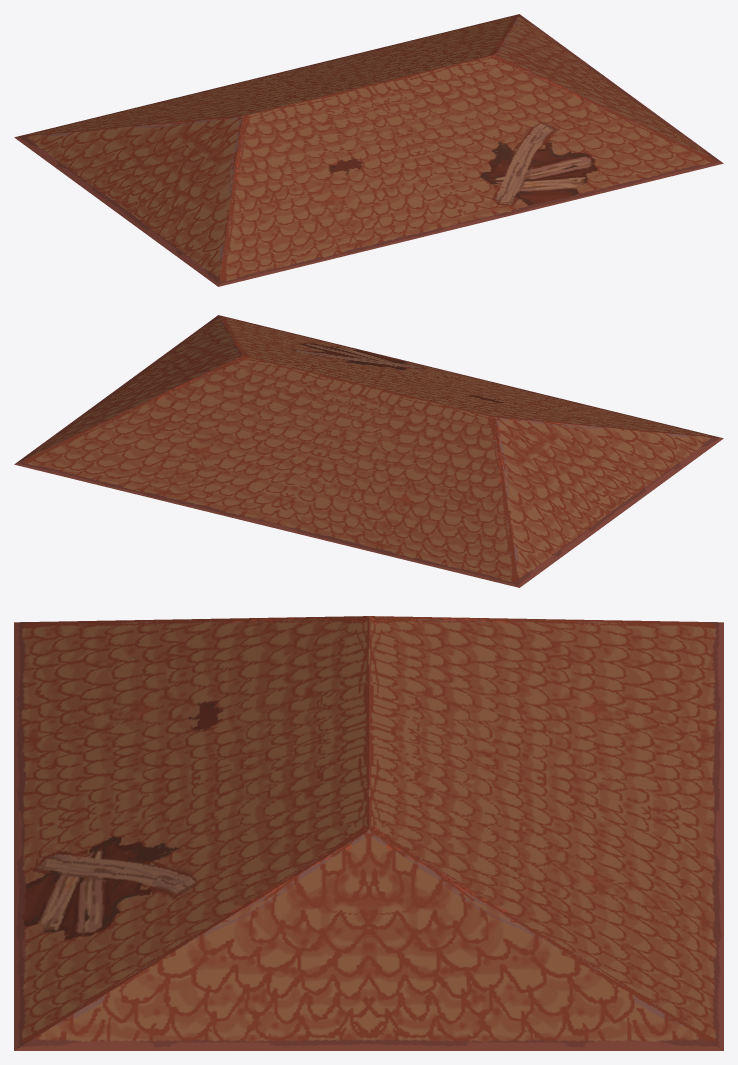
The model's file is Krov_5 (2).fbx.
3 renders of one model, top to bottom at view 1: azimuth 30°, elevation 25°; view 2: azimuth 150°, elevation 25°; view 3: azimuth 270°, elevation 25°, orthographic. The views are drawn at different scales.
Parts seen in each view (by area): view 1: Krov_5; view 2: Krov_5; view 3: Krov_5.
Boxes of the visible parts, left/top/right/bottom form: Krov_5: left=14, top=14, right=723, bottom=286; Krov_5: left=14, top=315, right=723, bottom=587; Krov_5: left=14, top=616, right=723, bottom=1050.
Bounding box in the file's own units: 500 × 61.67 × 350.
Materials: 1 (1 with a texture image).
